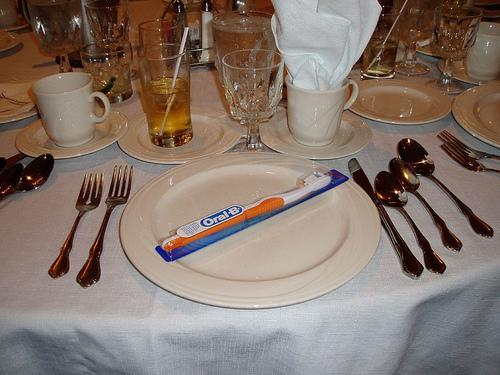cup: (32, 0, 193, 146), (212, 15, 288, 119)
